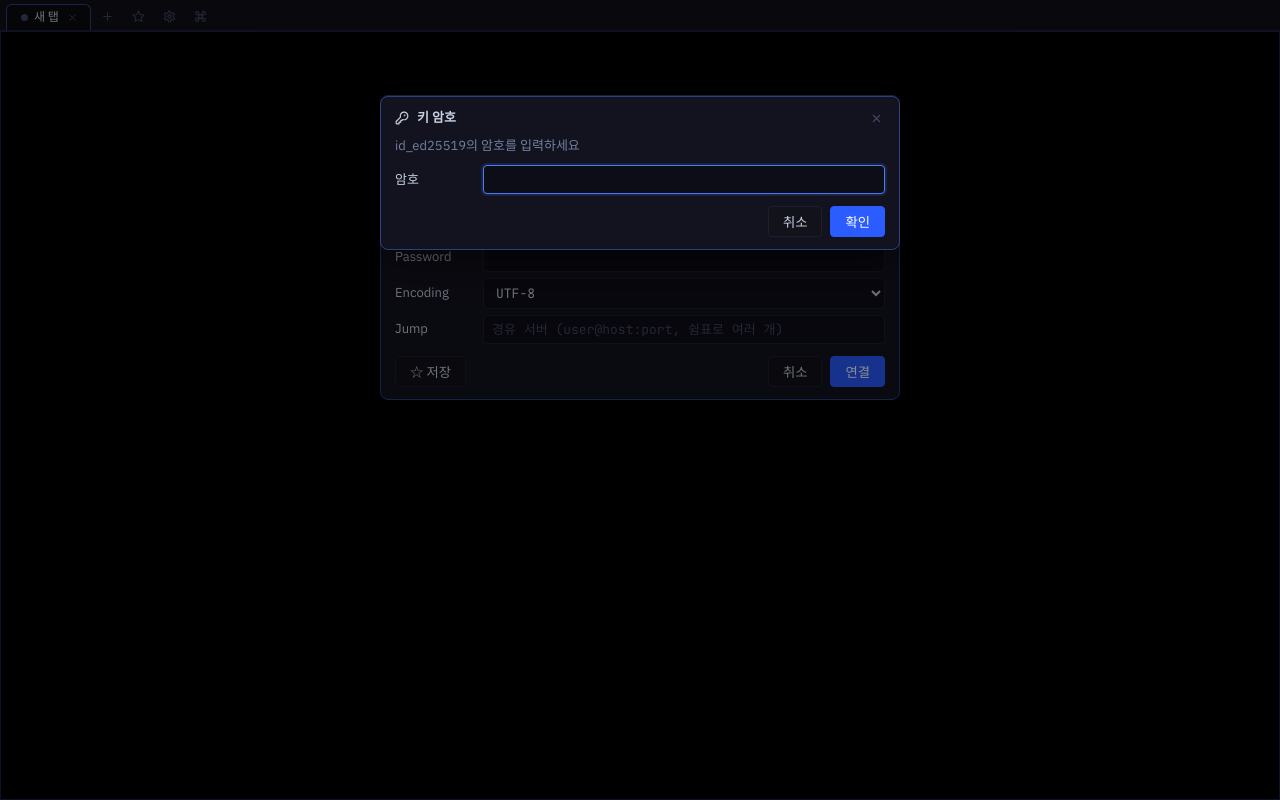
Test case: 로그인 질문 (AP) › AP-01: auth:prompt → 질문 창, 입력 후 확인 → AnswerPrompt(id, 값, true), 비밀번호 칸은 password
Expected: the field labelled "Host" is shown, [483,136,864,165]
Expected: the text "id_ed25519의 암호를 입력하세요" is shown, [395,137,580,154]
In the password field labelled "암호": x=684, y=180 [483,165,885,194], type "s3cret"
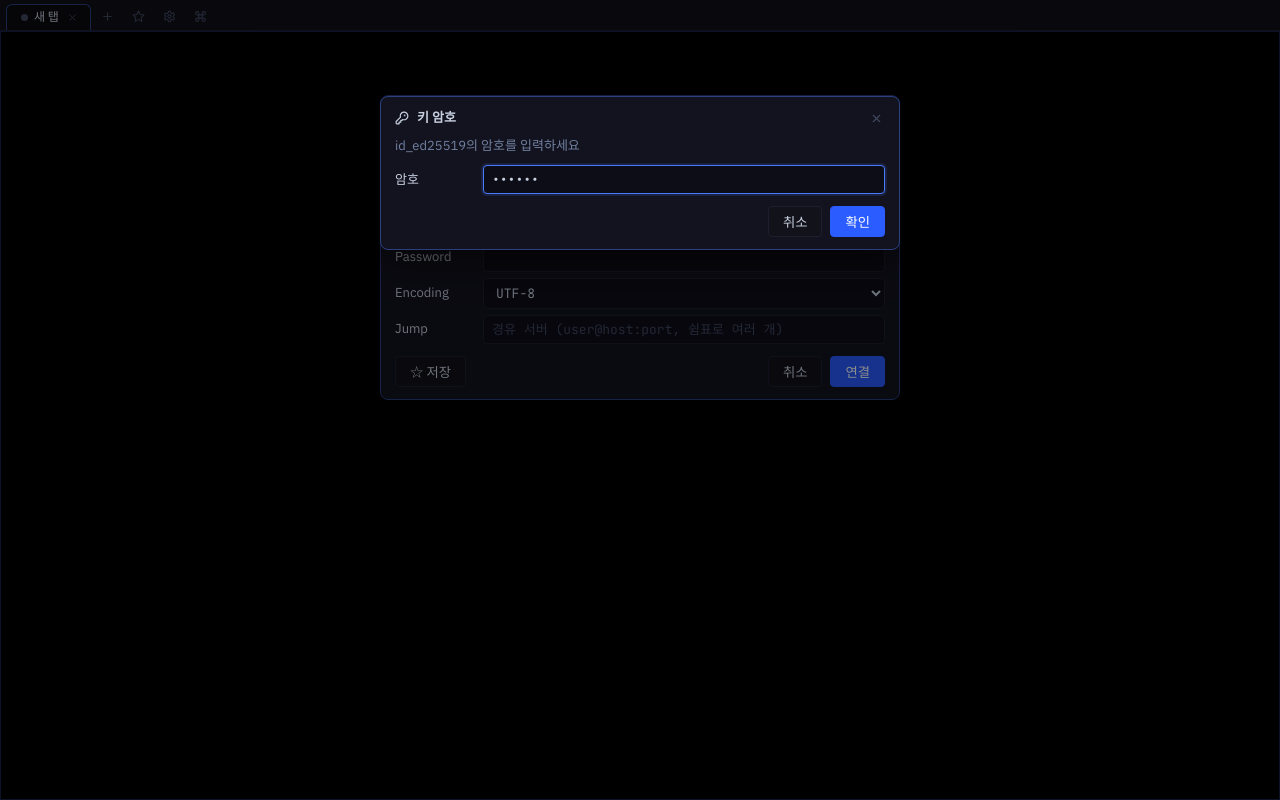
Press Enter in the password field labelled "암호", box [483,165,885,194]
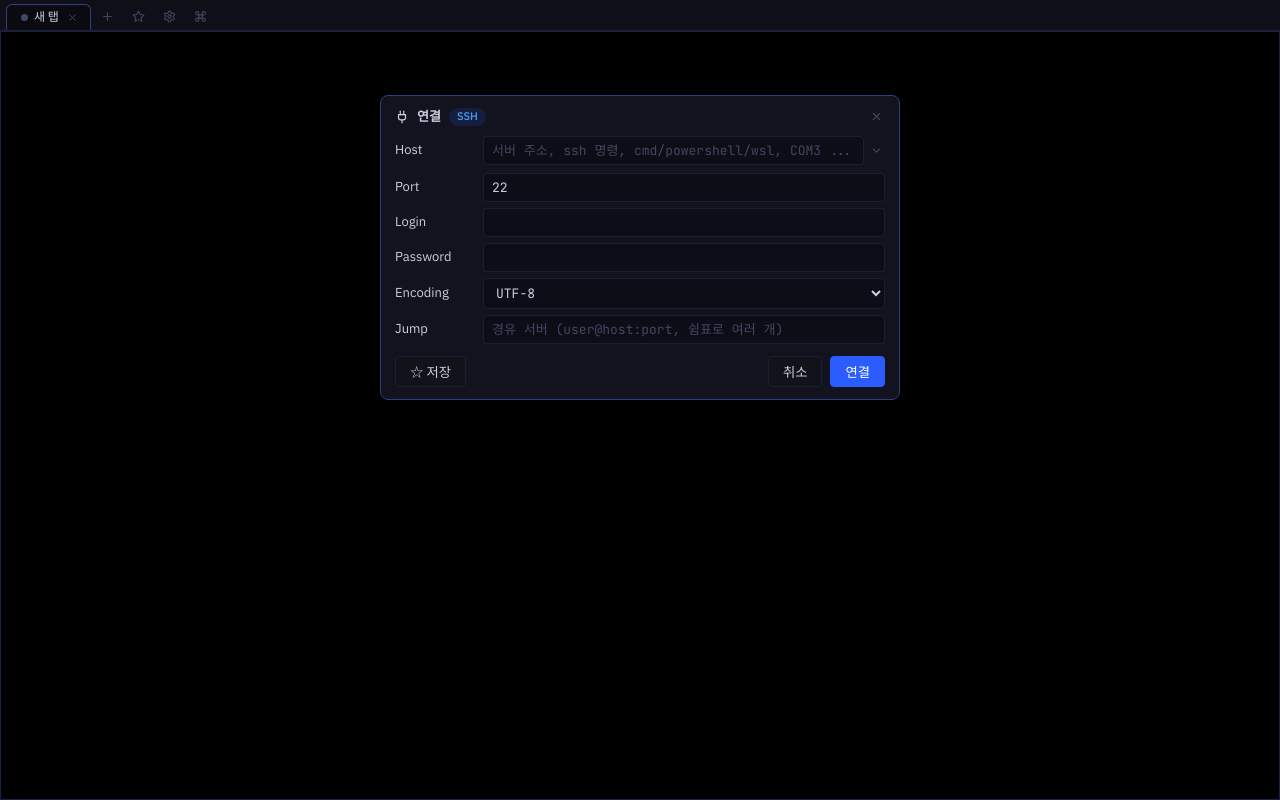
Result: the text labelled "암호" is gone
